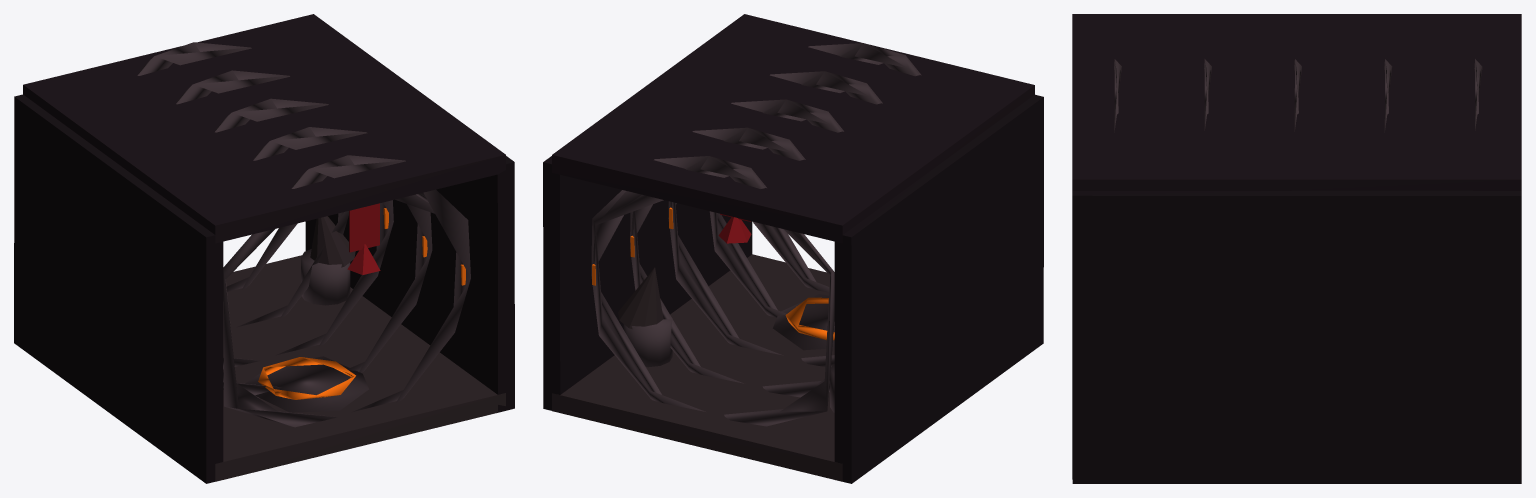
File: start_hall_lod.obj
3 views of the same model, side by side, from view 1: azimuth 30°, elevation 25°; view 2: azimuth 150°, elevation 25°; view 3: azimuth 270°, elevation 25° (orthographic). The views are drawn at different scales.
Visible parts, largest first — view 1: StartHall_Ceiling, StartHall_Wall_L, StartHall_Floor, StartHall_Wall_R, StartHall_Arch_4, StartHall_Arch_3, StartHall_Landing, StartHall_Arch_2, StartHall_Arch_1, StartHall_Arch_0, StartHall_DragonPedestal_1, StartHall_Dragon_1 (+3 smaller); view 2: StartHall_Ceiling, StartHall_Wall_L, StartHall_Floor, StartHall_Wall_R, StartHall_Arch_0, StartHall_Arch_2, StartHall_Arch_1, StartHall_Arch_3, StartHall_Arch_4, StartHall_Landing, StartHall_DragonPedestal_1, StartHall_Dragon_1 (+2 smaller); view 3: StartHall_Wall_R, StartHall_Ceiling.
Boxes of the visible parts, <box> form: StartHall_Ceiling: <box>23,14,505,243</box>; StartHall_Wall_L: <box>14,94,223,483</box>; StartHall_Floor: <box>215,255,505,481</box>; StartHall_Wall_R: <box>305,156,514,412</box>; StartHall_Arch_4: <box>223,155,470,427</box>; StartHall_Arch_3: <box>223,127,432,398</box>; StartHall_Landing: <box>245,356,368,412</box>; StartHall_Arch_2: <box>215,98,393,369</box>; StartHall_Arch_1: <box>176,70,348,327</box>; StartHall_Arch_0: <box>137,42,297,291</box>; StartHall_DragonPedestal_1: <box>301,249,350,305</box>; StartHall_Dragon_1: <box>310,216,355,267</box>; StartHall_Ceiling: <box>552,14,1034,243</box>; StartHall_Wall_L: <box>834,94,1043,483</box>; StartHall_Floor: <box>552,254,842,481</box>; StartHall_Wall_R: <box>543,156,752,410</box>; StartHall_Arch_0: <box>591,156,834,426</box>; StartHall_Arch_2: <box>668,99,843,366</box>; StartHall_Arch_1: <box>630,127,829,397</box>; StartHall_Arch_3: <box>709,71,882,317</box>; StartHall_Arch_4: <box>753,43,921,292</box>; StartHall_Landing: <box>773,294,834,350</box>; StartHall_DragonPedestal_1: <box>623,315,672,367</box>; StartHall_Dragon_1: <box>618,267,663,329</box>; StartHall_Wall_R: <box>1072,190,1521,483</box>; StartHall_Ceiling: <box>1072,14,1521,200</box>.
Bounding box in the file's own units: 102 × 86.67 × 110.
